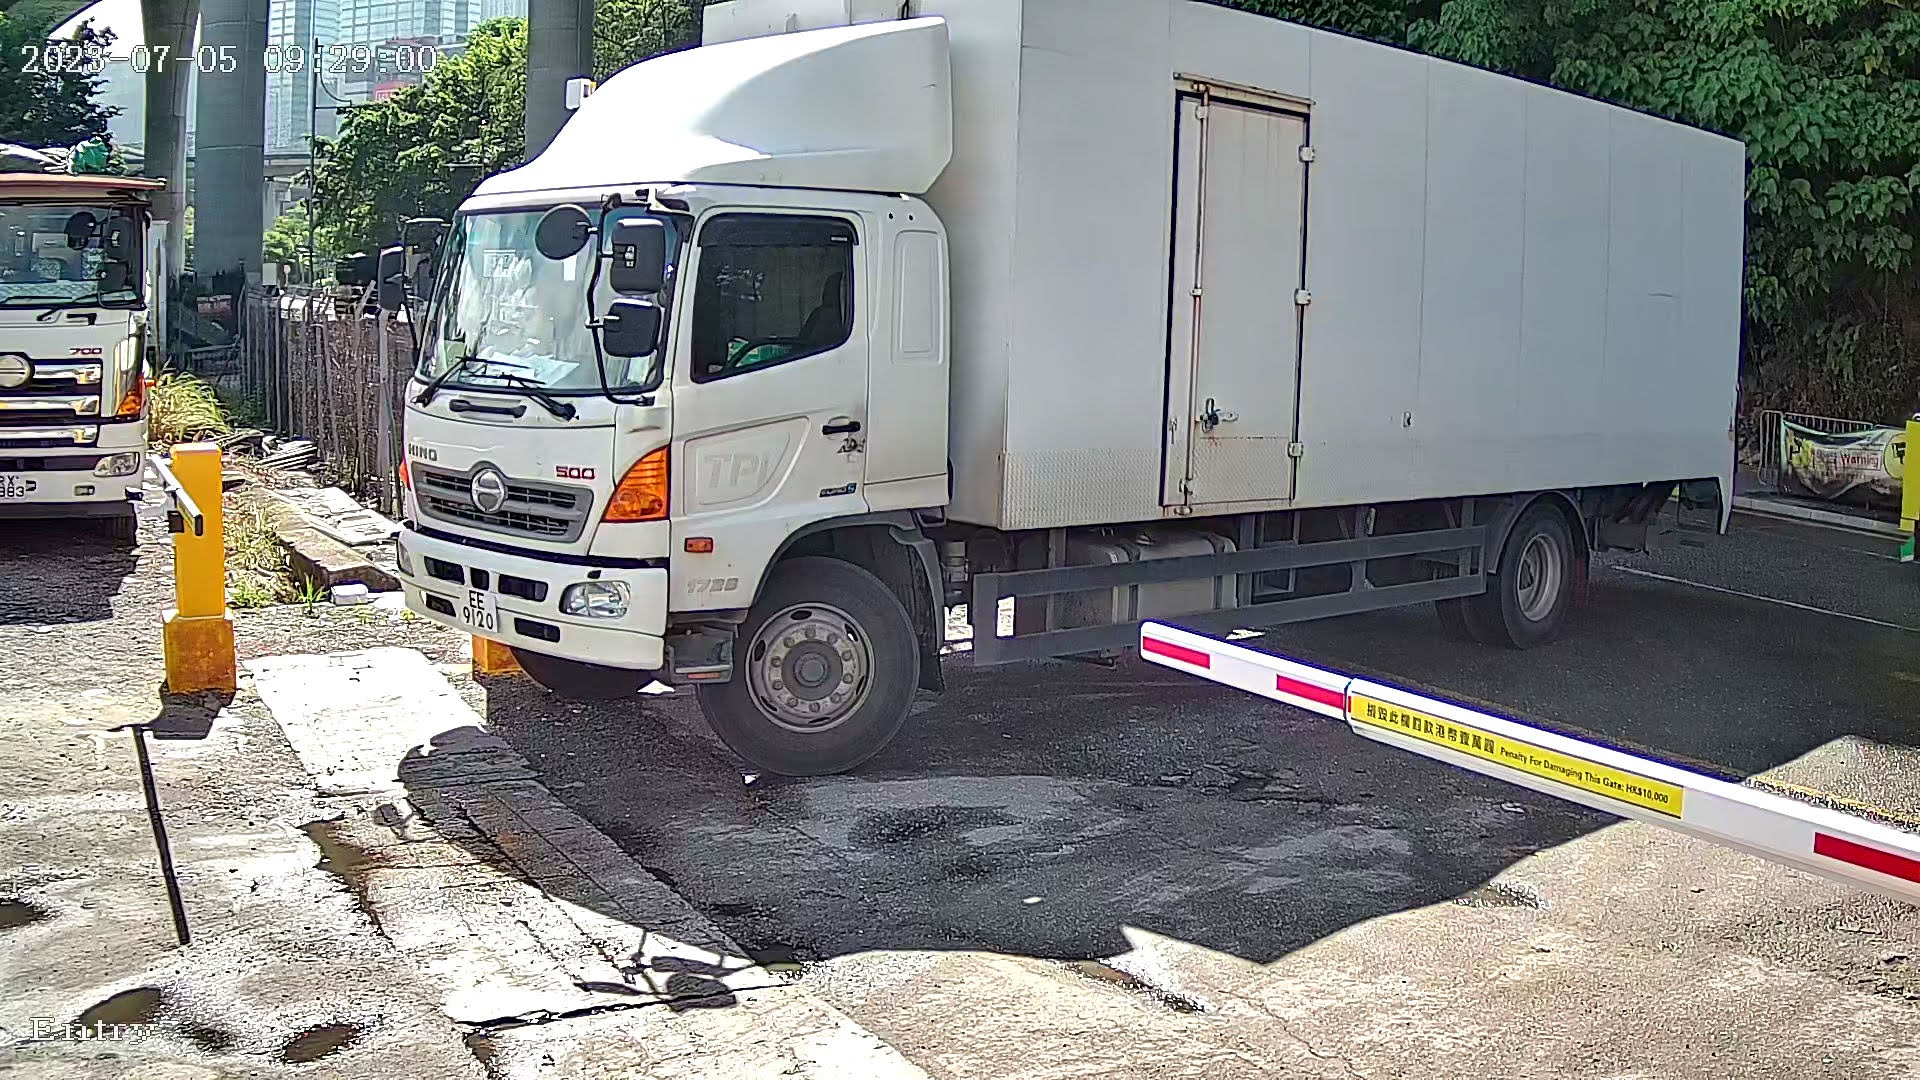truck_large: (344, 1, 1818, 793)
